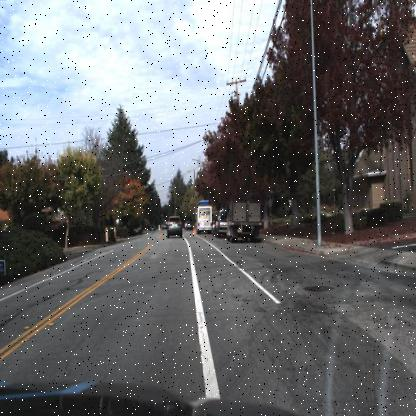car: (224, 194, 264, 246), (194, 203, 215, 238), (195, 203, 213, 239), (163, 213, 184, 241), (216, 202, 231, 238), (132, 219, 144, 238), (148, 220, 158, 235)
truck: (225, 198, 268, 244)
